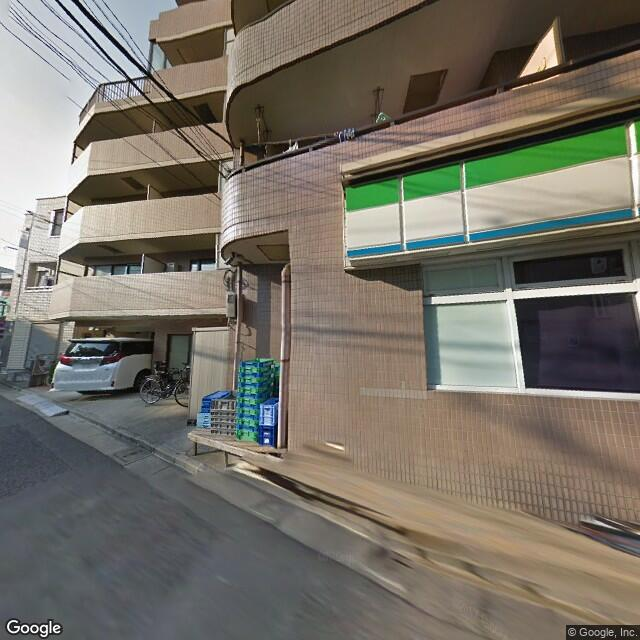family_mart: (346, 117, 638, 263)
